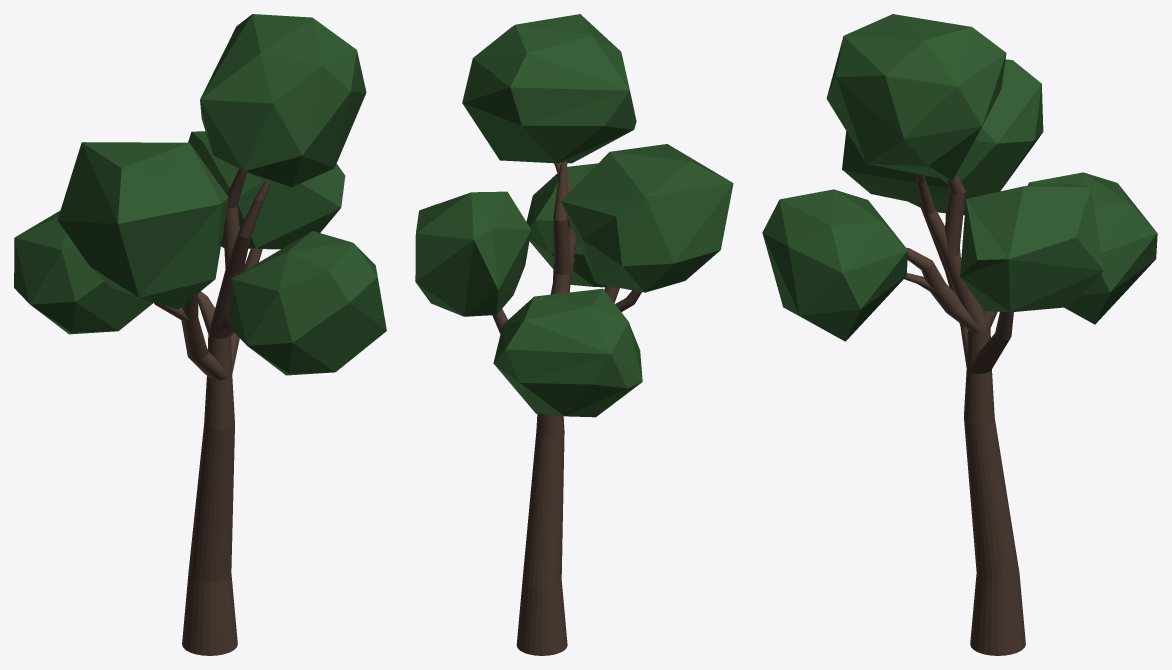
Rendered from Tree1.fbx.
3 views of the same model, side by side, from view 1: azimuth 30°, elevation 25°; view 2: azimuth 150°, elevation 25°; view 3: azimuth 270°, elevation 25° (orthographic). The views are drawn at different scales.
Visible parts, largest first — view 1: Leaves, Trunk; view 2: Leaves, Trunk; view 3: Leaves, Trunk.
Boxes of the visible parts, x1,y1,x2,y2 form: Leaves: (14,14,386,375); Trunk: (153,169,270,655); Leaves: (415,14,733,417); Trunk: (492,161,641,655); Leaves: (762,14,1157,341); Trunk: (904,173,1025,655).
Size of the model in its own units: 267 by 565 by 318.
